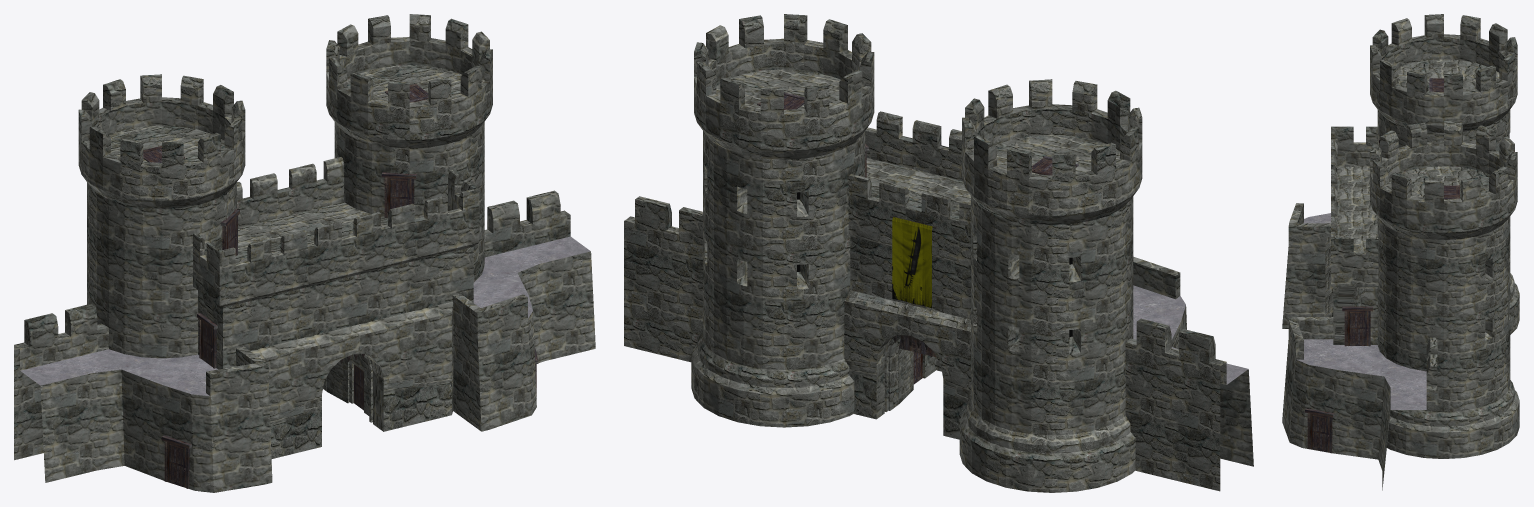
File: P2_gatehouse.glb
3 views of the same model, side by side, from view 1: azimuth 30°, elevation 25°; view 2: azimuth 150°, elevation 25°; view 3: azimuth 270°, elevation 25° (orthographic). The views are drawn at different scales.
Parts seen in each view (by area): view 1: GateHouse, DoorsLevel3, DoorsLevel1, DoorsLevel2, GateLeft; view 2: GateHouse, Flag, GateLeft; view 3: GateHouse, DoorsLevel2, DoorsLevel1, Trapdoors.
Boxes of the visible parts, x1,y1,x2,y2 form: GateHouse: (14, 14, 595, 492); DoorsLevel3: (220, 172, 416, 255); DoorsLevel1: (161, 346, 538, 488); DoorsLevel2: (197, 313, 217, 368); GateLeft: (326, 357, 349, 403); GateHouse: (624, 14, 1253, 492); Flag: (892, 217, 932, 308); GateLeft: (898, 348, 913, 404); GateHouse: (1282, 14, 1519, 490); DoorsLevel2: (1342, 306, 1372, 346); DoorsLevel1: (1305, 408, 1334, 453); Trapdoors: (1429, 78, 1459, 199).
Bounding box in the file's own units: 29.08 × 15.7 × 12.26.
Materials: 22 (22 with a texture image).
